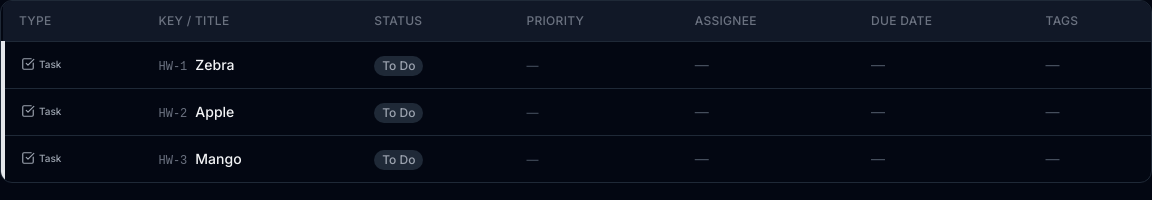
Test: ListView › sorting › switching sort field resets direction to ascending
Click the text "Key / Title" at x=194, y=21, box [158,13,229,29]
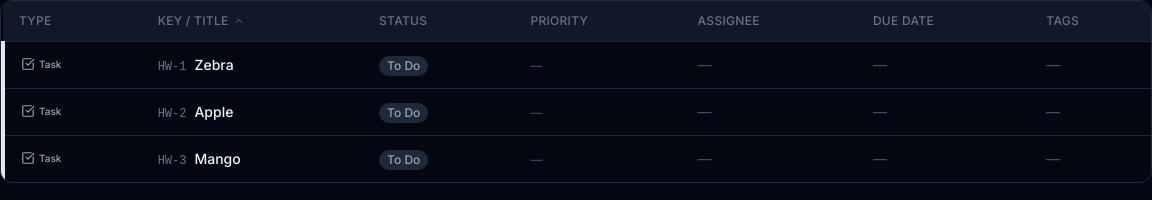
Click the text "Key / Title" at x=201, y=21, box [158,13,244,29]
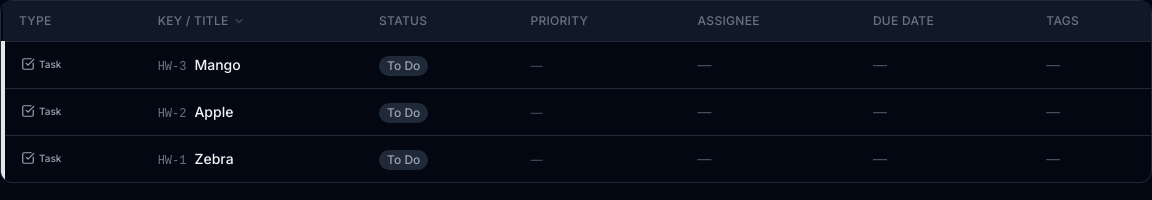
Click the text "Due Date" at x=903, y=21, box [873,13,934,29]
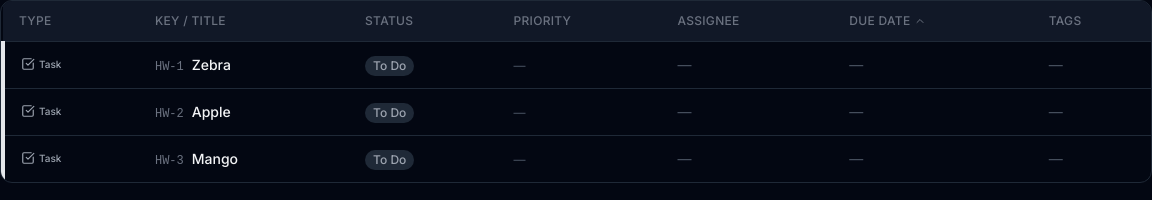
Now the icon named "sort ascending" is shown, box [914,15,926,27]
